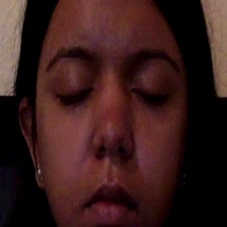drowsy: (42, 39, 182, 227)
